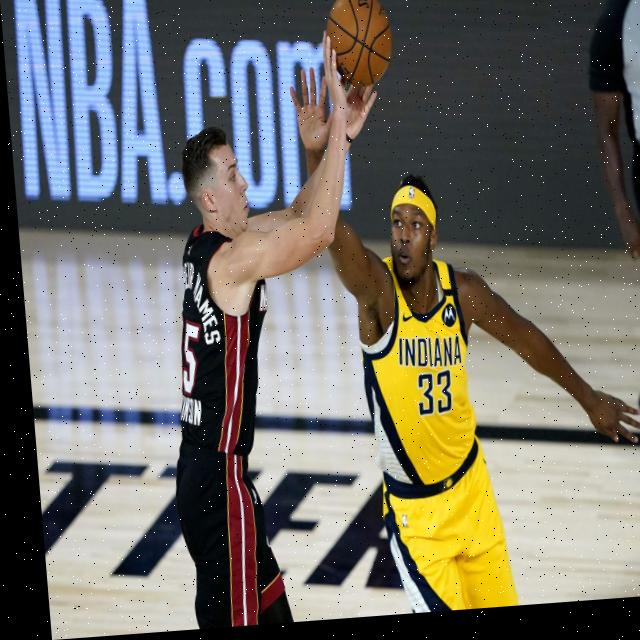basketball: (324, 0, 396, 89)
